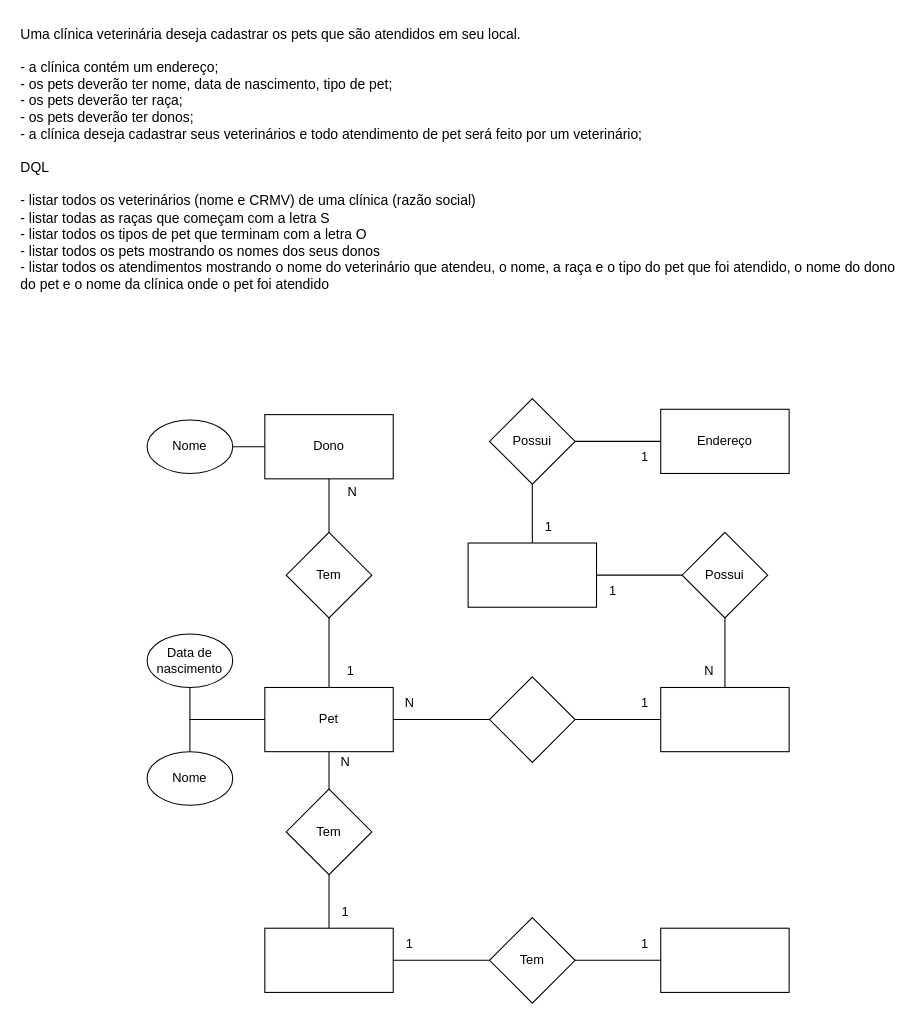
The diagram is 914 pixels wide and 1022 high, and some of its shapes have lost their labels. The shapes that lost their labels are listed below. From the top down, each one's box as (x1, y1, x2, y2) in pixels, then its label:
(467, 542, 597, 607): Clinica
(488, 676, 575, 762): Atendimento
(660, 686, 789, 752): Veterinario
(264, 927, 393, 992): Raça
(660, 927, 789, 992): Tipo de pet
